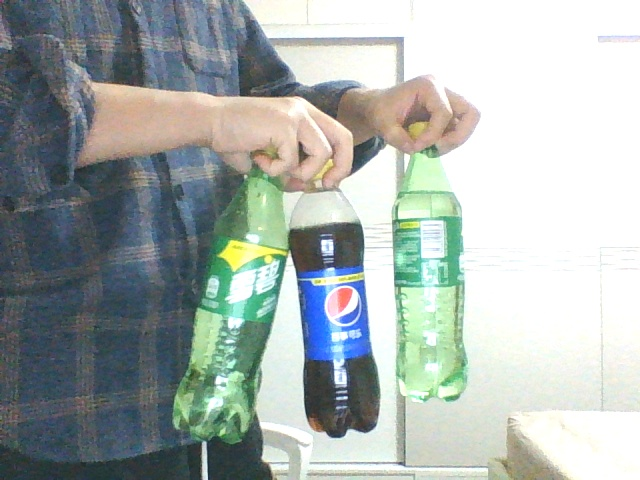Cola: (289, 160, 381, 437)
Sprite: (171, 151, 291, 444), (391, 124, 469, 402)
